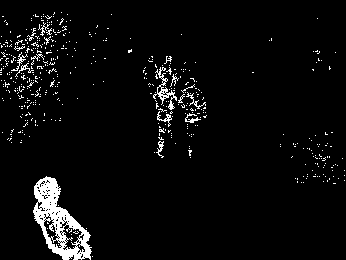person: (30, 174, 93, 259), (175, 76, 210, 160), (151, 78, 179, 159)
